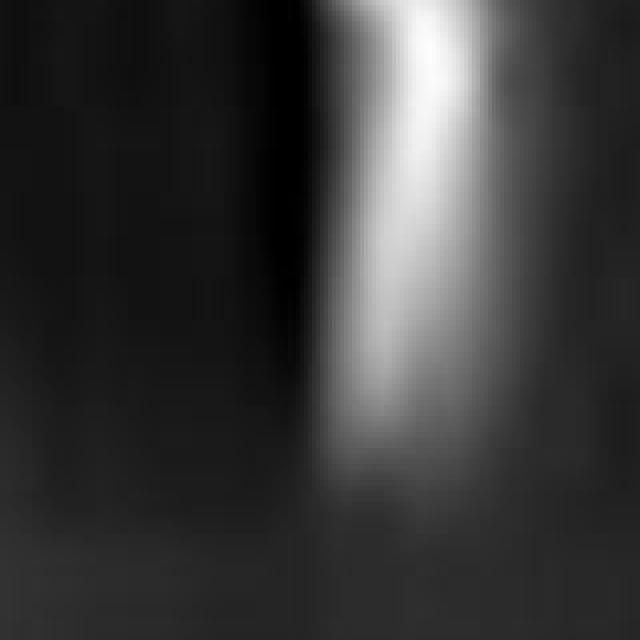person: (261, 1, 525, 529)
